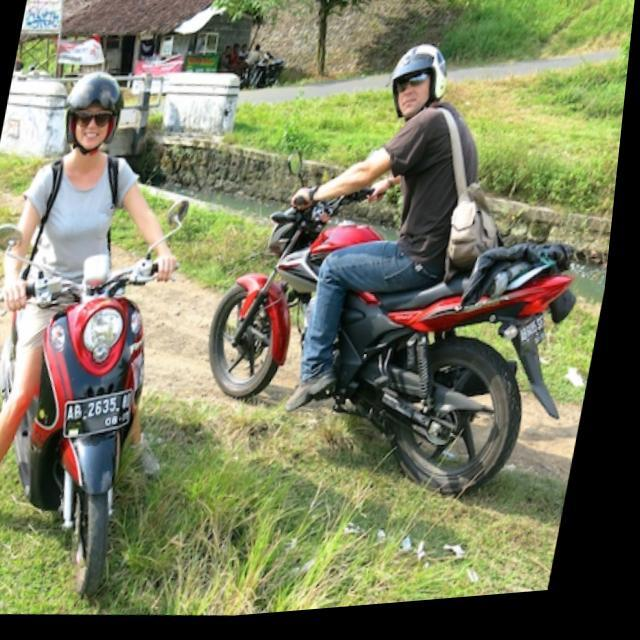Helmet: (60, 63, 130, 161), (379, 33, 454, 122)
